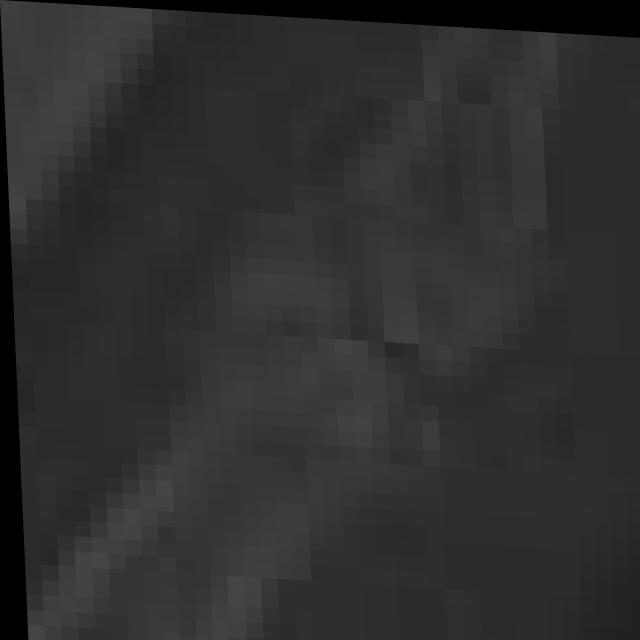fracture: (12, 15, 640, 640)
